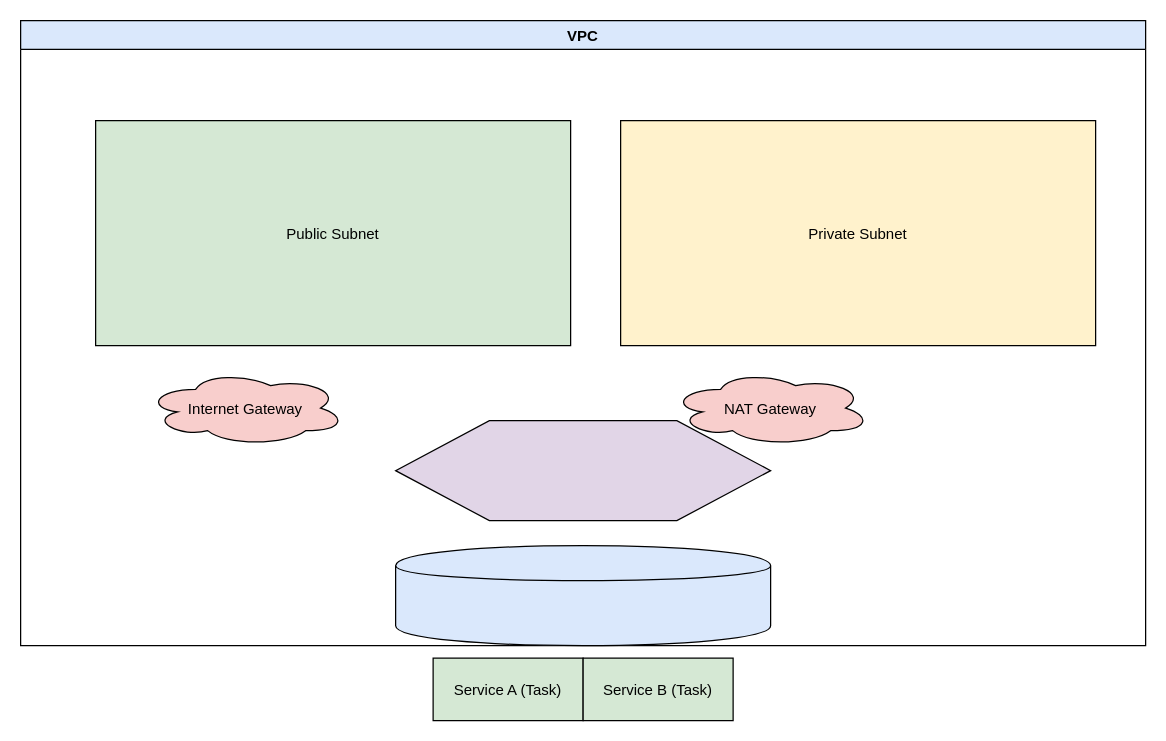
Image size: 1166x741. Some labels were removed from this diagram. The shapes that lost their labels are listed below. From the top down, each one's centre as x and y in pixels, then its label:
At pixel 582 470: "Application Load Balancer".
At pixel 582 595: "ECS Cluster".
